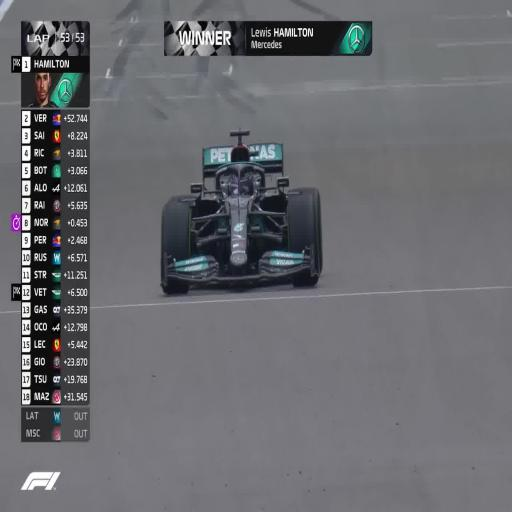f1_car: (161, 131, 322, 293)
